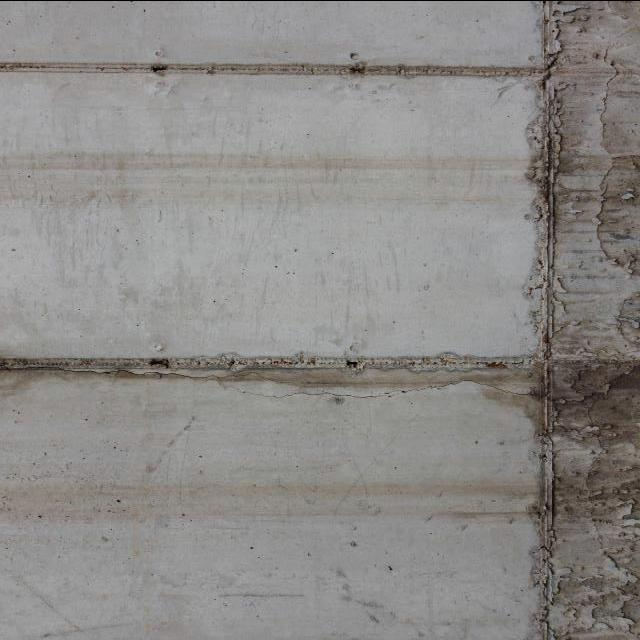SurfaceCrack: (471, 2, 640, 640), (1, 312, 528, 430)
